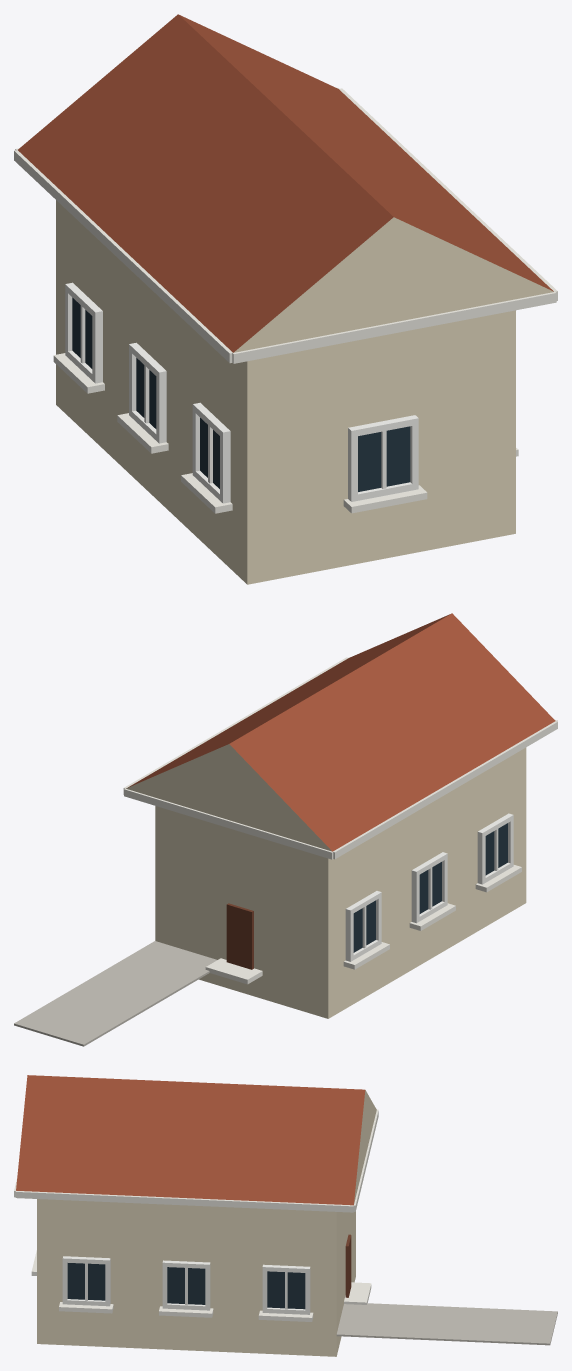
The picture shows the model from 3 angles, top to bottom: view 1: azimuth 30°, elevation 25°; view 2: azimuth 150°, elevation 25°; view 3: azimuth 270°, elevation 25°; orthographic projection. The views are drawn at different scales.
Visible parts, largest first — view 1: b9285; view 2: b9285; view 3: b9285.
Part boxes in pixels (x1,y1,x2,y2): b9285: (14, 14, 557, 584); b9285: (14, 613, 557, 1046); b9285: (14, 1075, 557, 1356).
Bounding box in the file's own units: 3460 × 3283 × 7094.
